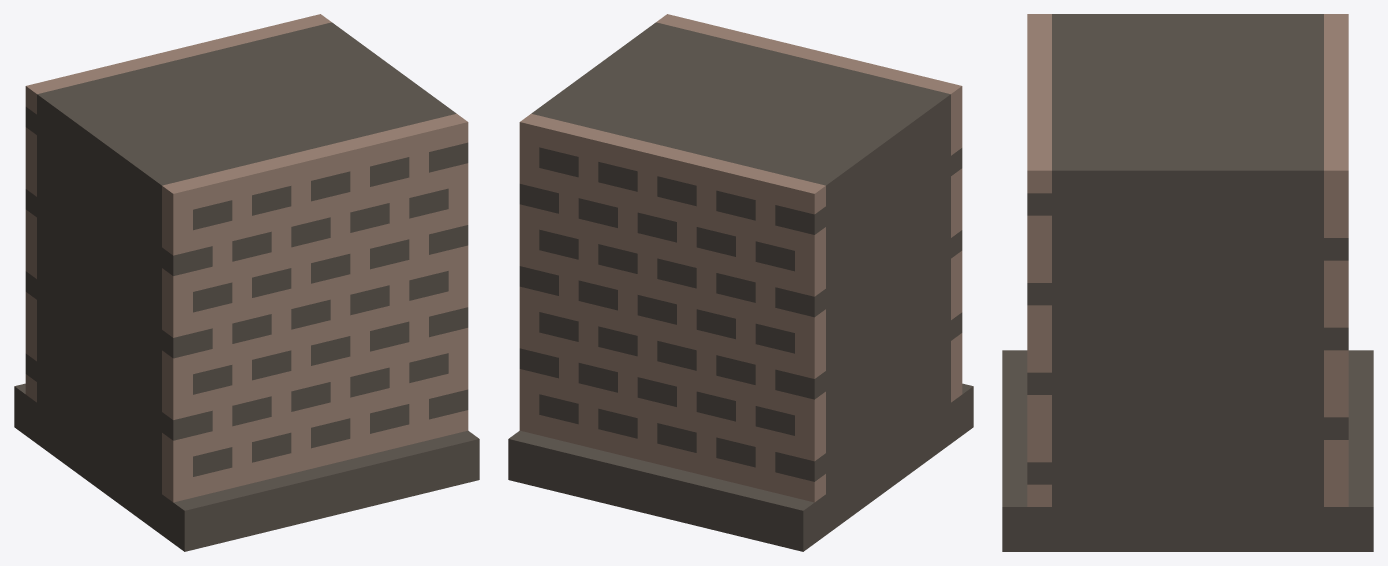
Rendered from dungeon_a_b_inner_wall_segment_a.obj.
3 renders of one model, left to right at view 1: azimuth 30°, elevation 25°; view 2: azimuth 150°, elevation 25°; view 3: azimuth 270°, elevation 25°, orthographic. The views are drawn at different scales.
Bounding box in the file's own units: 1.5 × 1.7 × 1.5.
1 material, 1 textured.
